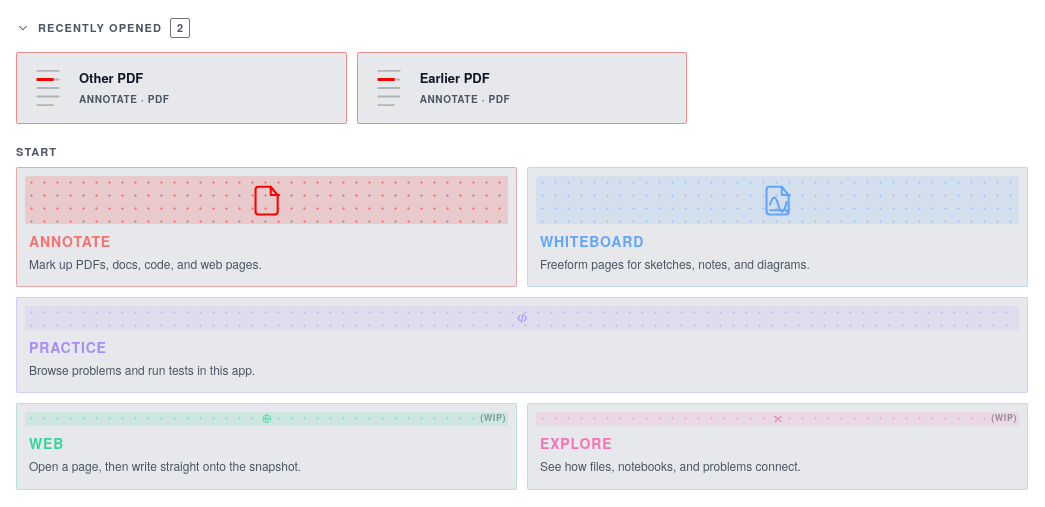
hold to edit Recently opened › removes only from the list, and leaves the rest
Press the mouse on the button with class "lc-home-recent" showing "Other PDF Annotate · PDF" at (48, 88), box [16,52,347,124]
Wait 620 ms
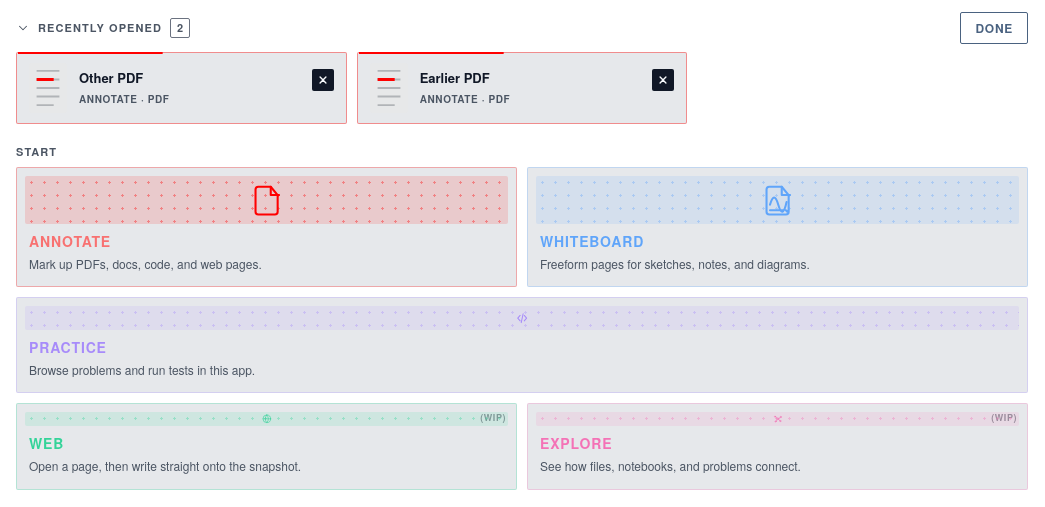
Click the 1st button with class "lc-home-recent-remove" at (323, 80), box [305,58,341,102]
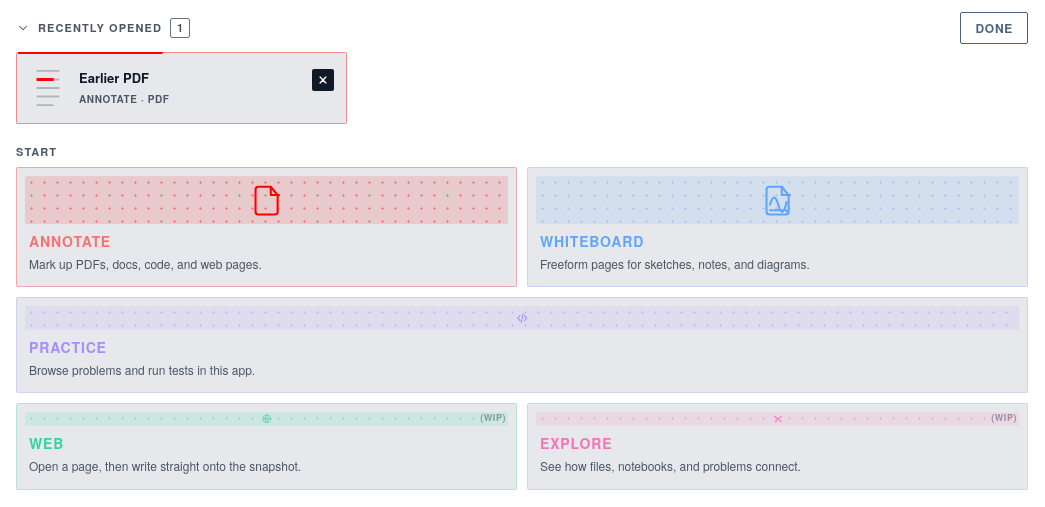
Now the number of buttons with class "lc-home-recent" is 1, box [16,52,347,124]
Click the button with class "lc-home-recent-remove" at (323, 80), box [305,58,341,102]
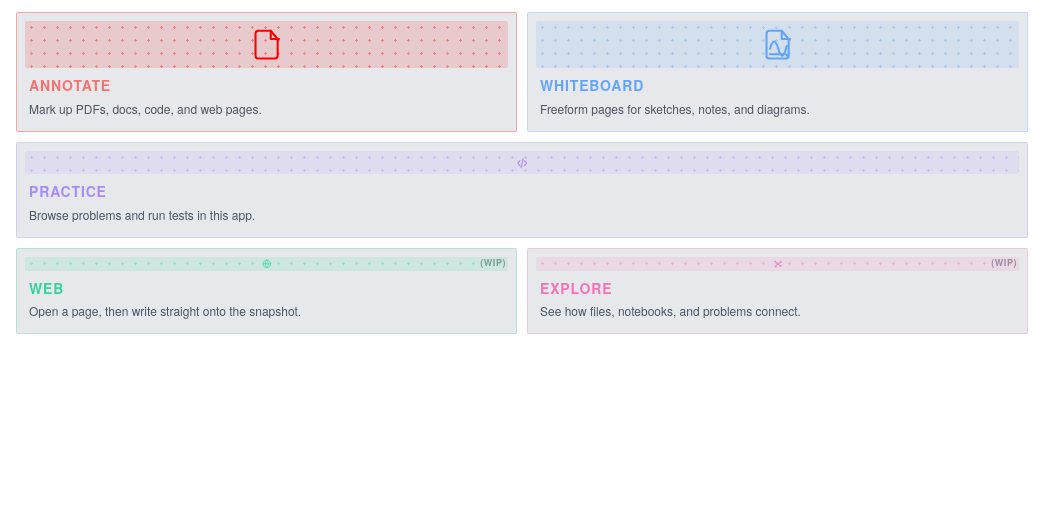
Now the element with class "lc-home-recents" is gone
